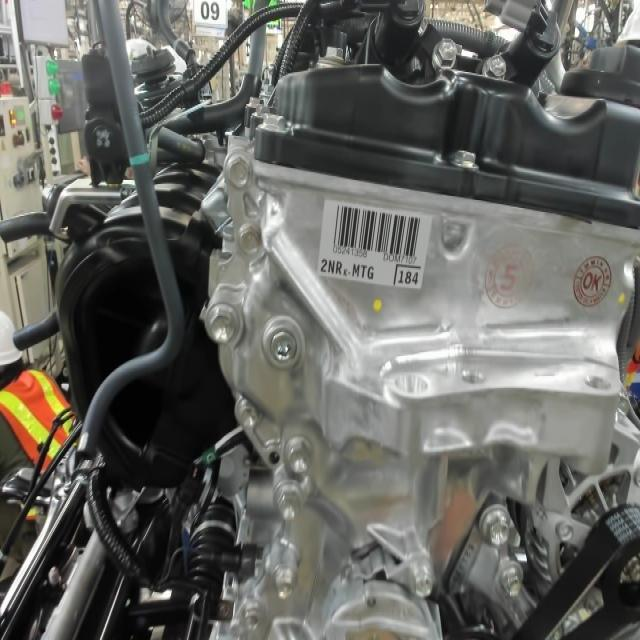Engine Assy-184: (390, 259, 424, 293)
Hose Canister-HJ: (125, 150, 154, 171)
